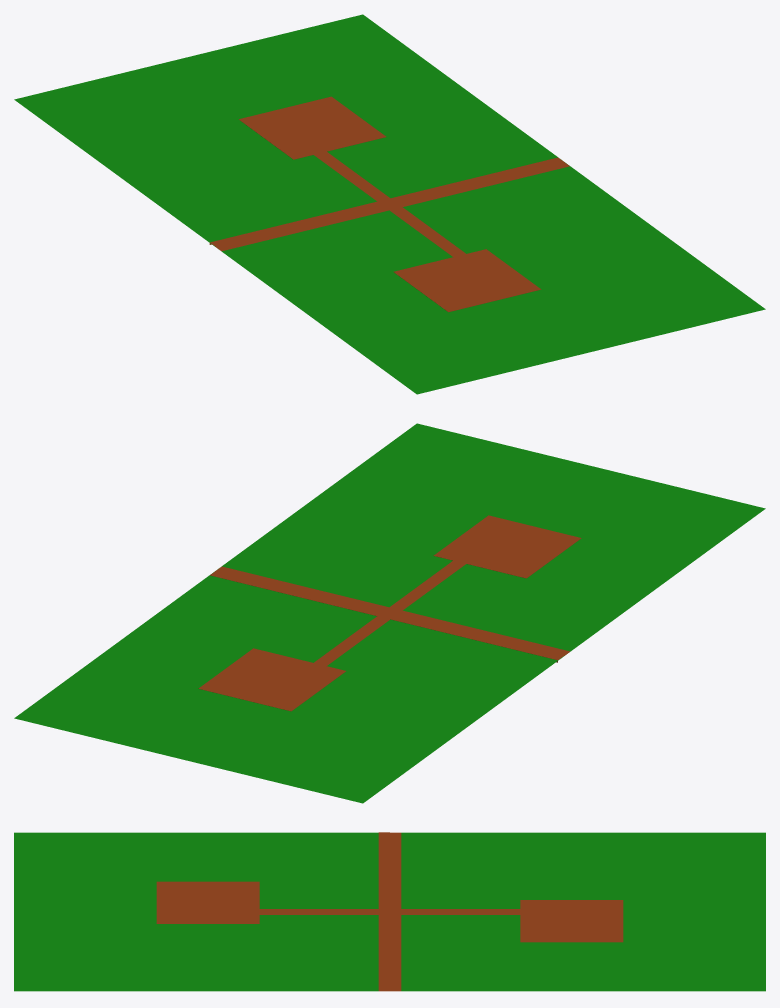
The model's file is SM_Map_01.fbx.
3 renders of one model, top to bottom at view 1: azimuth 30°, elevation 25°; view 2: azimuth 150°, elevation 25°; view 3: azimuth 270°, elevation 25°, orthographic. The views are drawn at different scales.
Visible parts, largest first — view 1: Plane, Plane.057, Cube.102, Cube.180, Cube.181, Cube.101; view 2: Plane.057, Plane, Cube.180, Cube.102, Cube.181, Cube.101; view 3: Plane.057, Plane, Cube.180, Cube.102, Cube.101, Cube.181.
Boxes of the visible parts, left/top/right/bottom form: Plane: left=218, top=162, right=765, bottom=394; Plane.057: left=14, top=14, right=562, bottom=246; Cube.102: left=393, top=249, right=541, bottom=312; Cube.180: left=239, top=96, right=386, bottom=159; Cube.181: left=209, top=151, right=563, bottom=246; Cube.101: left=216, top=162, right=569, bottom=256; Plane.057: left=14, top=571, right=563, bottom=803; Plane: left=217, top=423, right=765, bottom=651; Cube.180: left=198, top=648, right=345, bottom=711; Cube.102: left=433, top=515, right=581, bottom=578; Cube.181: left=210, top=571, right=563, bottom=666; Cube.101: left=216, top=560, right=569, bottom=655; Plane.057: left=401, top=832, right=765, bottom=991; Plane: left=14, top=832, right=378, bottom=991; Cube.180: left=520, top=900, right=623, bottom=942; Cube.102: left=156, top=881, right=259, bottom=923; Cube.101: left=259, top=832, right=389, bottom=991; Cube.181: left=390, top=832, right=520, bottom=991.
Size of the model in its own units: 5000 by 35.09 by 10000.
